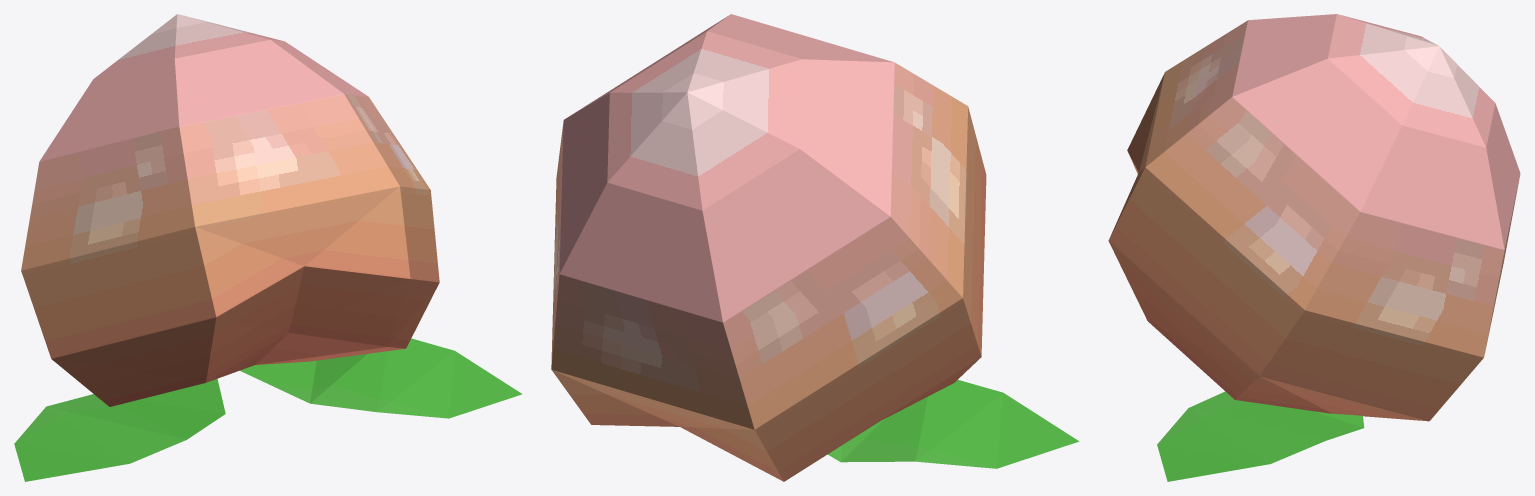
File: item_it04_04_MOMON.dae
3 renders of one model, left to right at view 1: azimuth 30°, elevation 25°; view 2: azimuth 150°, elevation 25°; view 3: azimuth 270°, elevation 25°, orthographic. The views are drawn at different scales.
Visible parts, largest first — view 1: vsn_mesh_0_momon; view 2: vsn_mesh_0_momon; view 3: vsn_mesh_0_momon.
Part boxes in pixels (<box>): vsn_mesh_0_momon: <box>14,14,522,481</box>; vsn_mesh_0_momon: <box>551,14,1079,481</box>; vsn_mesh_0_momon: <box>1108,14,1520,481</box>.
Size of the model in its own units: 0.4939 by 0.3496 by 0.3782.
1 material, 1 textured.
